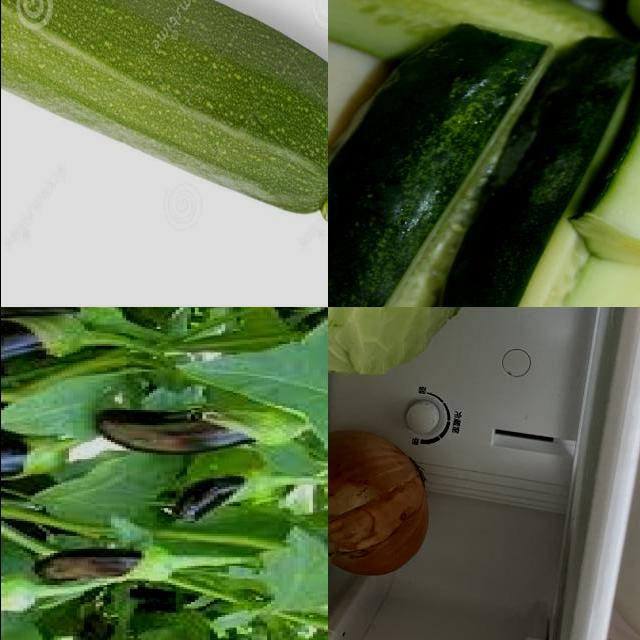cucumber: (328, 27, 543, 308), (433, 32, 640, 308)
eggplant: (104, 407, 294, 456), (1, 391, 70, 479), (1, 319, 77, 391), (38, 548, 202, 580), (183, 471, 259, 522)
onion: (328, 426, 433, 579)
zucchini: (1, 1, 328, 185)
